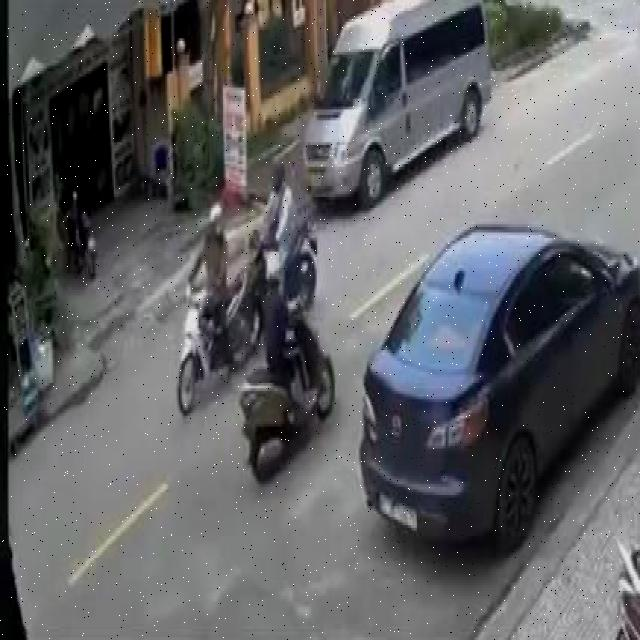accident: (177, 157, 318, 417)
